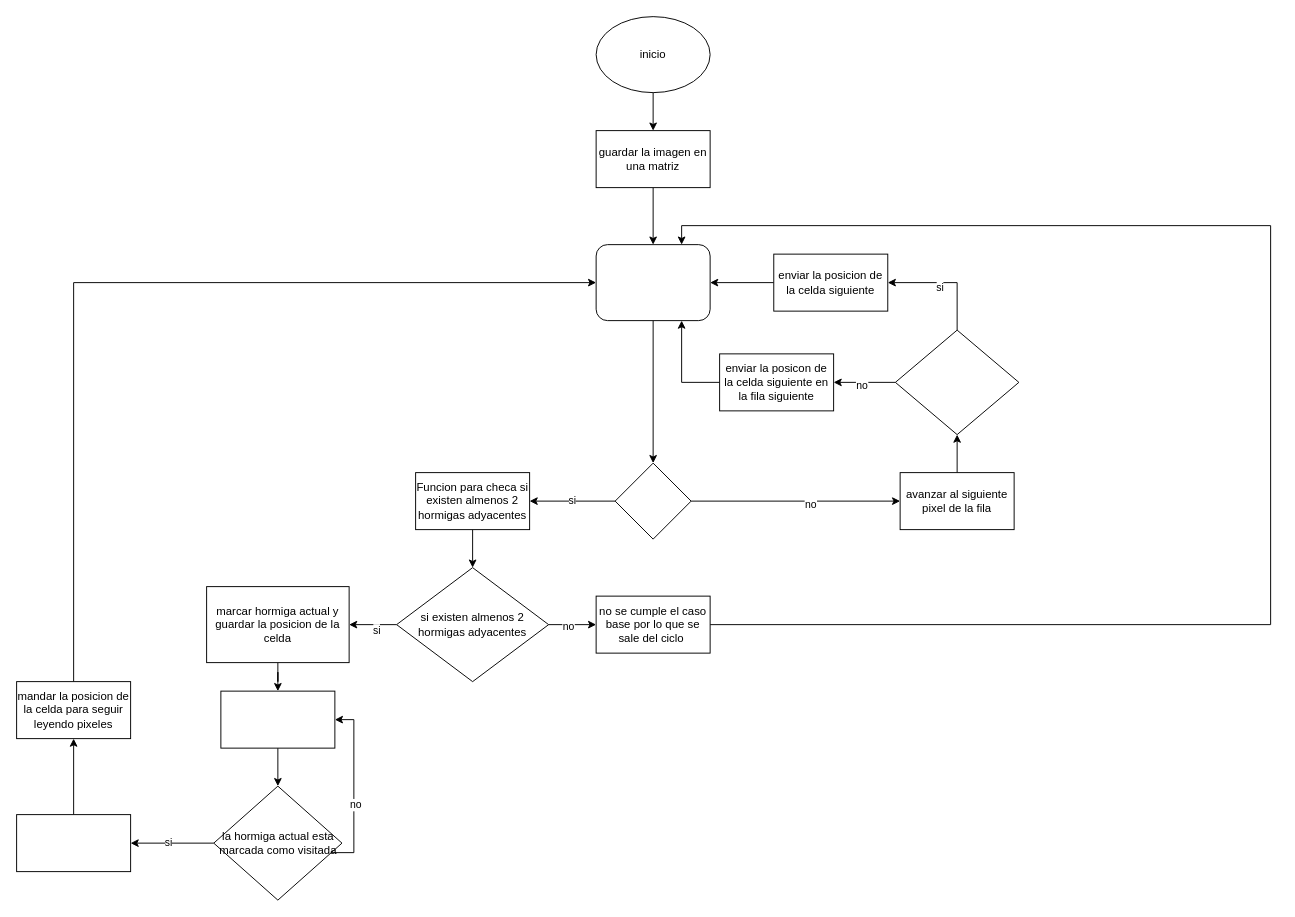
Some shapes in this 1295 by 917 pixel diagram are drawn without their labels. Here are the shapes that lost their labels. From the top down, the centre of each, then its label:
(x=652, y=282): leer pixel de la fila (por default leemos el pixel superior izquierdo)
(x=956, y=382): ya no hay mas pixeles en la fila
(x=652, y=500): si el pixel es una hormiga
(x=277, y=719): avanzar a la hormiga adyacente
(x=73, y=843): incrementar contador de colonias numColonias++
